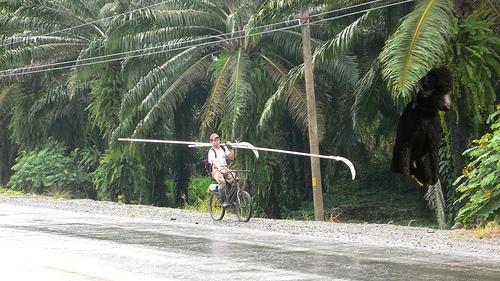tampered: (390, 65, 453, 186)
